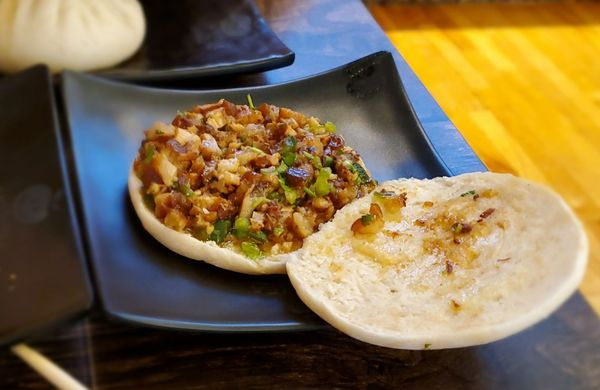sushi: (283, 172, 587, 351)
